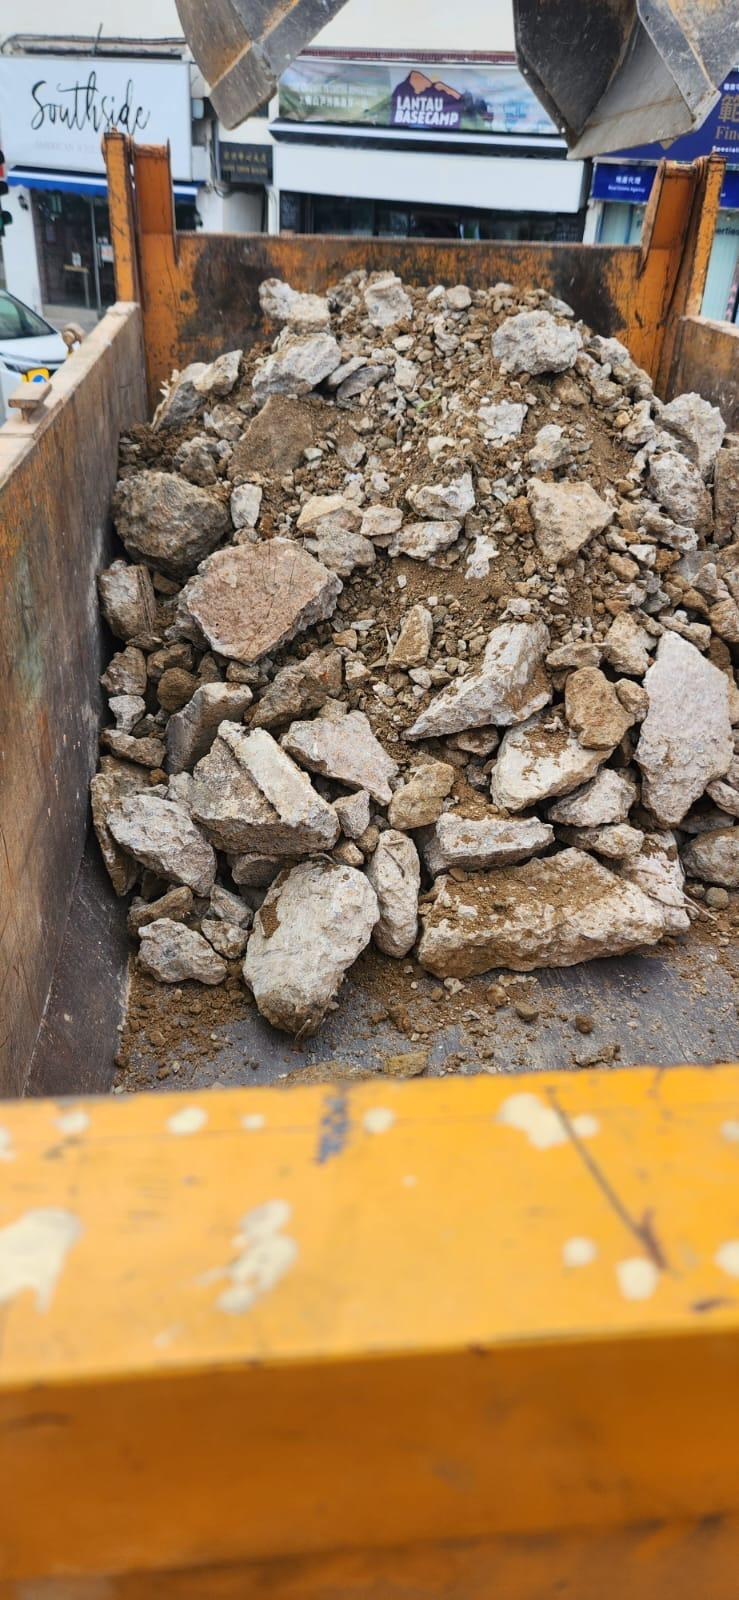stone: (91, 267, 737, 1043), (415, 844, 675, 980), (241, 856, 381, 1038), (180, 535, 343, 663), (632, 628, 733, 826), (401, 618, 553, 740)
